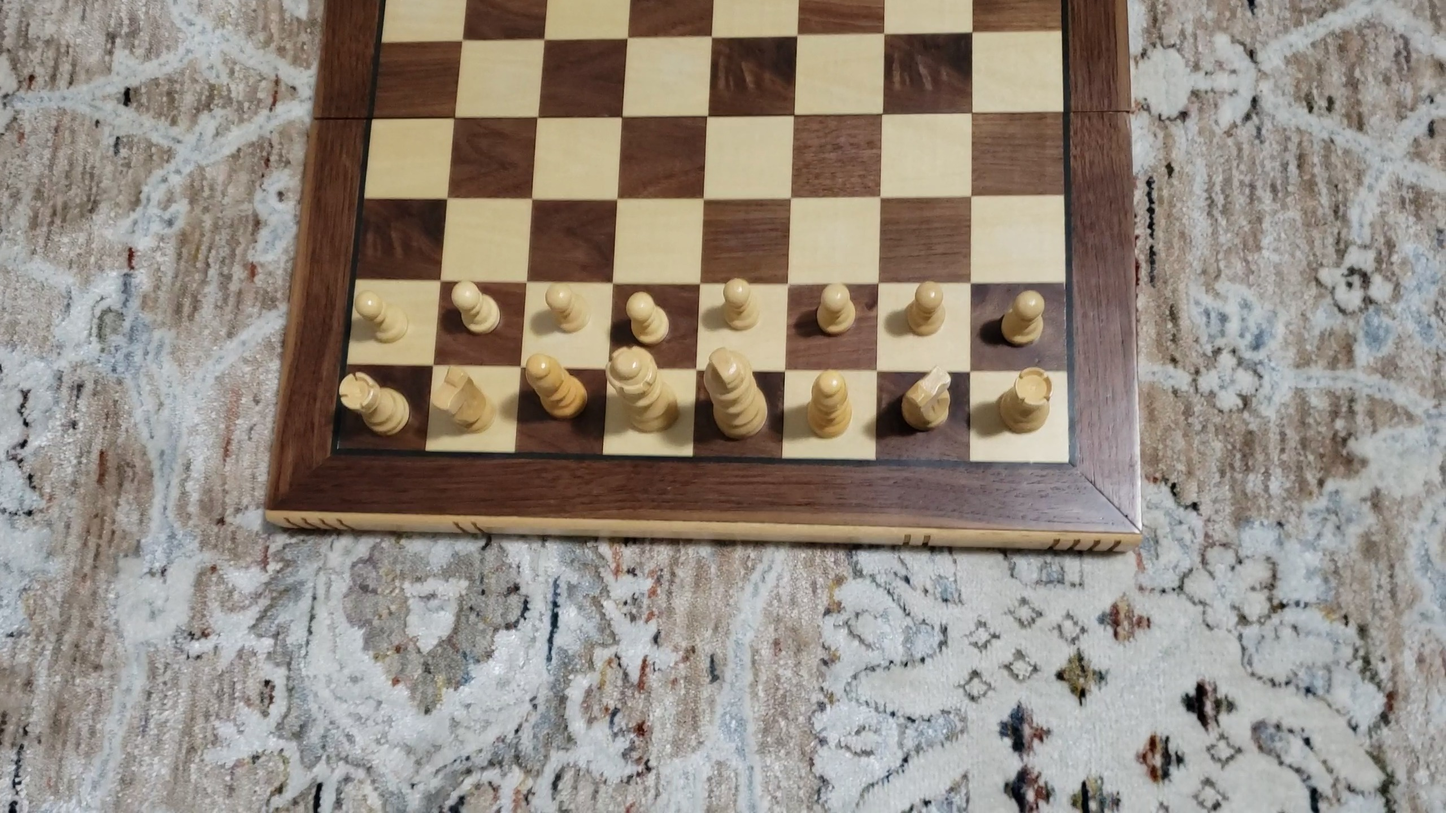white-bishop: (521, 351, 589, 422), (804, 365, 857, 443)
white-king: (703, 345, 770, 443)
white-knight: (432, 364, 497, 436), (894, 364, 954, 436)
white-pawn: (994, 285, 1050, 351), (352, 287, 412, 347), (447, 277, 504, 337), (901, 277, 951, 341), (621, 288, 673, 348), (811, 278, 859, 340), (541, 280, 592, 336), (716, 274, 762, 335)
white-queen: (602, 342, 682, 438)
white-rook: (339, 370, 410, 439), (992, 364, 1057, 438)
